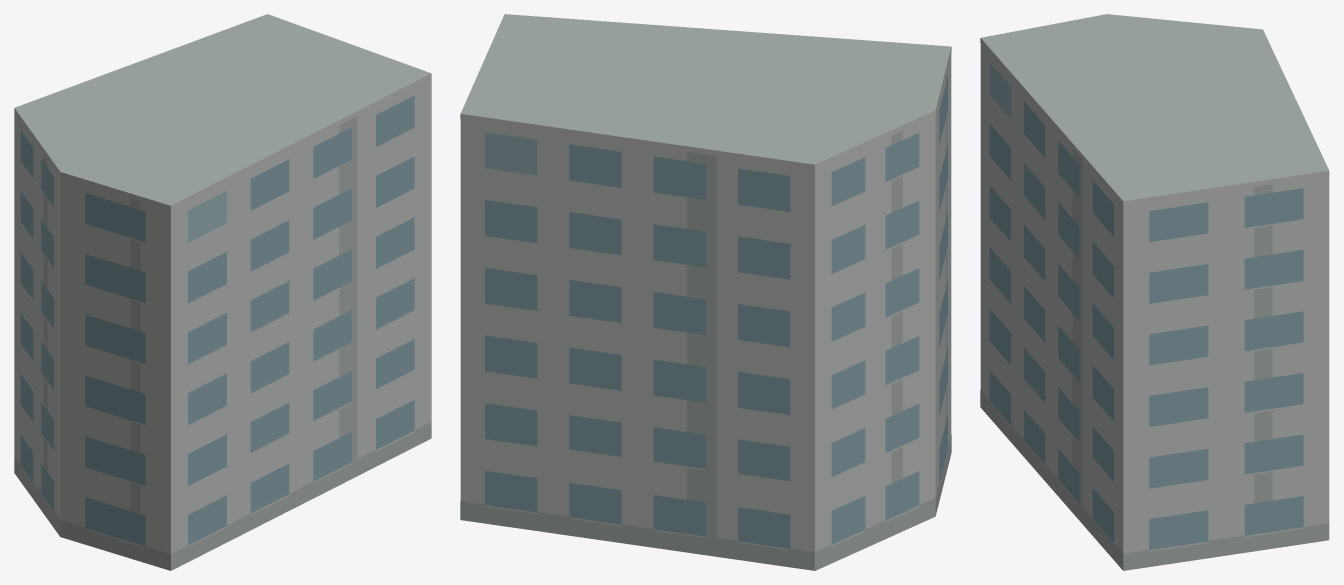
Rendered from survey-upis-32923288.glb.
3 views of the same model, side by side, from view 1: azimuth 30°, elevation 25°; view 2: azimuth 150°, elevation 25°; view 3: azimuth 270°, elevation 25° (orthographic). The views are drawn at different scales.
Parts seen in each view (by area): view 1: survey-upis-32923288.tmp; view 2: survey-upis-32923288.tmp; view 3: survey-upis-32923288.tmp.
Boxes of the visible parts, left/top/right/bottom form: survey-upis-32923288.tmp: left=14, top=14, right=431, bottom=570; survey-upis-32923288.tmp: left=460, top=14, right=951, bottom=570; survey-upis-32923288.tmp: left=980, top=14, right=1329, bottom=570.
Size of the model in its own units: 18.82 by 17.3 by 14.81.
